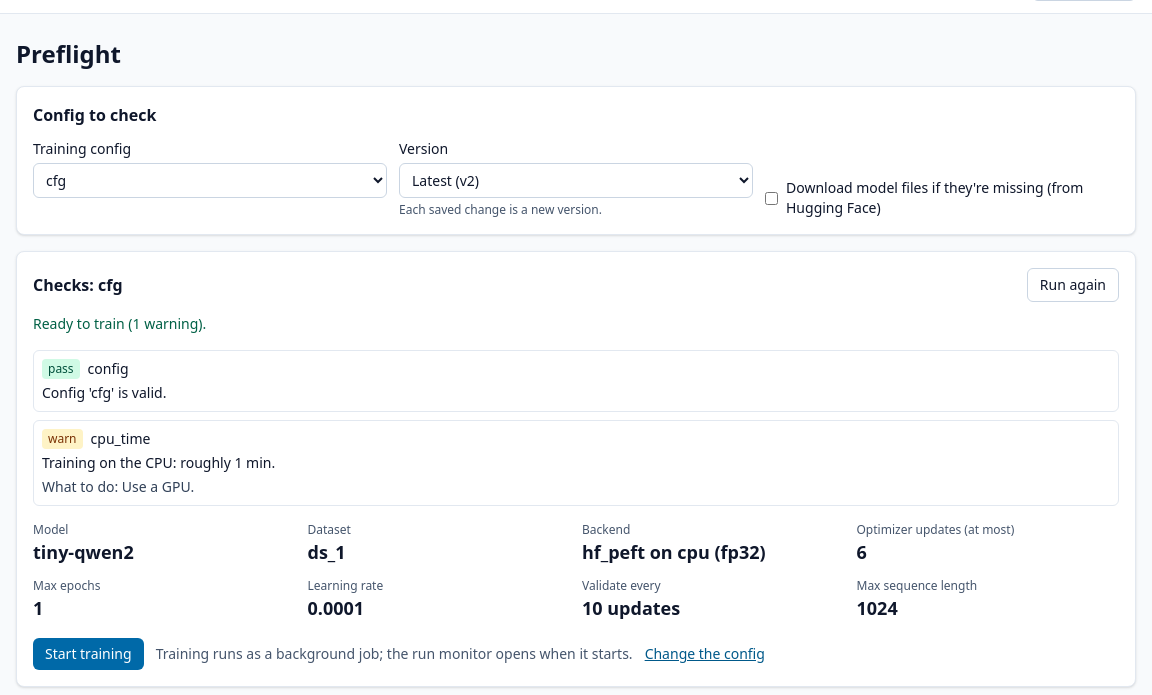
Preflight › enables Start when nothing fails and starts the run
(page scrolled)
Check: the text "Ready to train (1 warning)." is shown, box x1=33 y1=314 x2=206 y2=333
Click the button "Start training" at (88, 654), box x1=33 y1=638 x2=144 y2=670
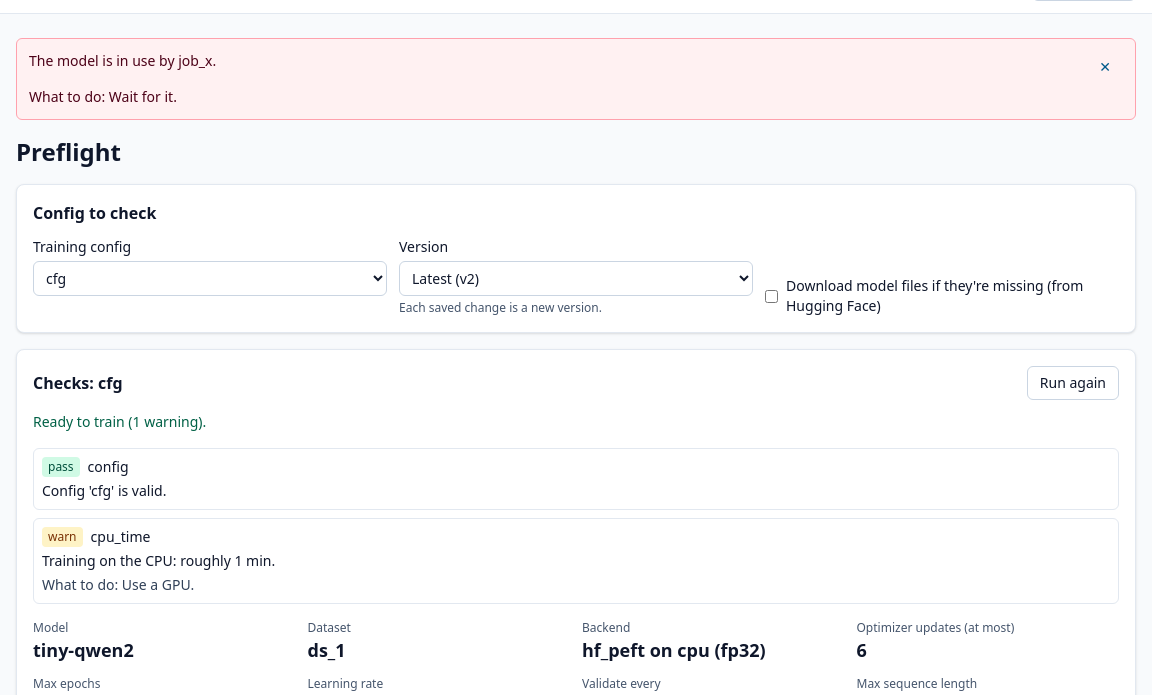
Check: the text "The model is in use by job_x." is shown, box x1=29 y1=51 x2=216 y2=71
